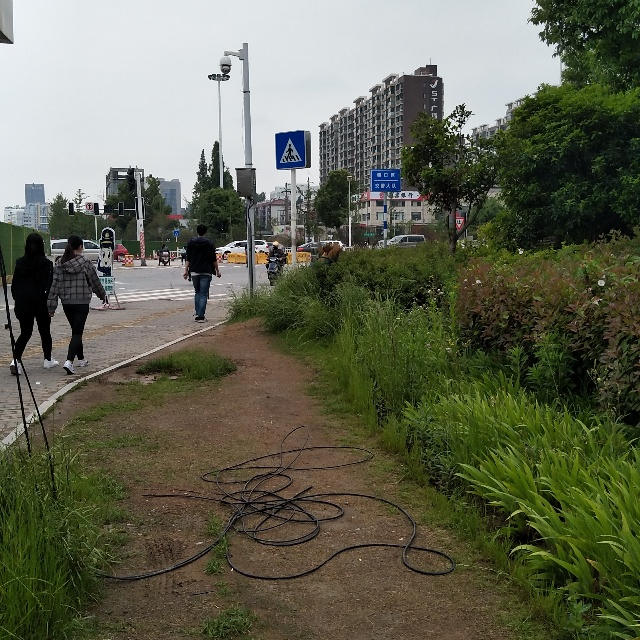crosswalk: (278, 132, 306, 172)
